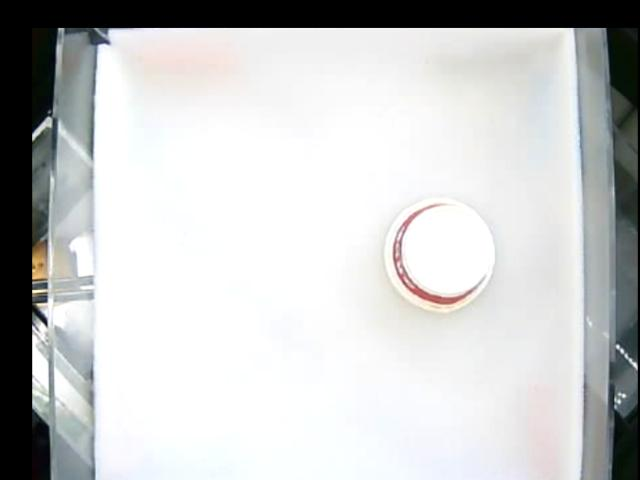Cup: (382, 199, 498, 310)
